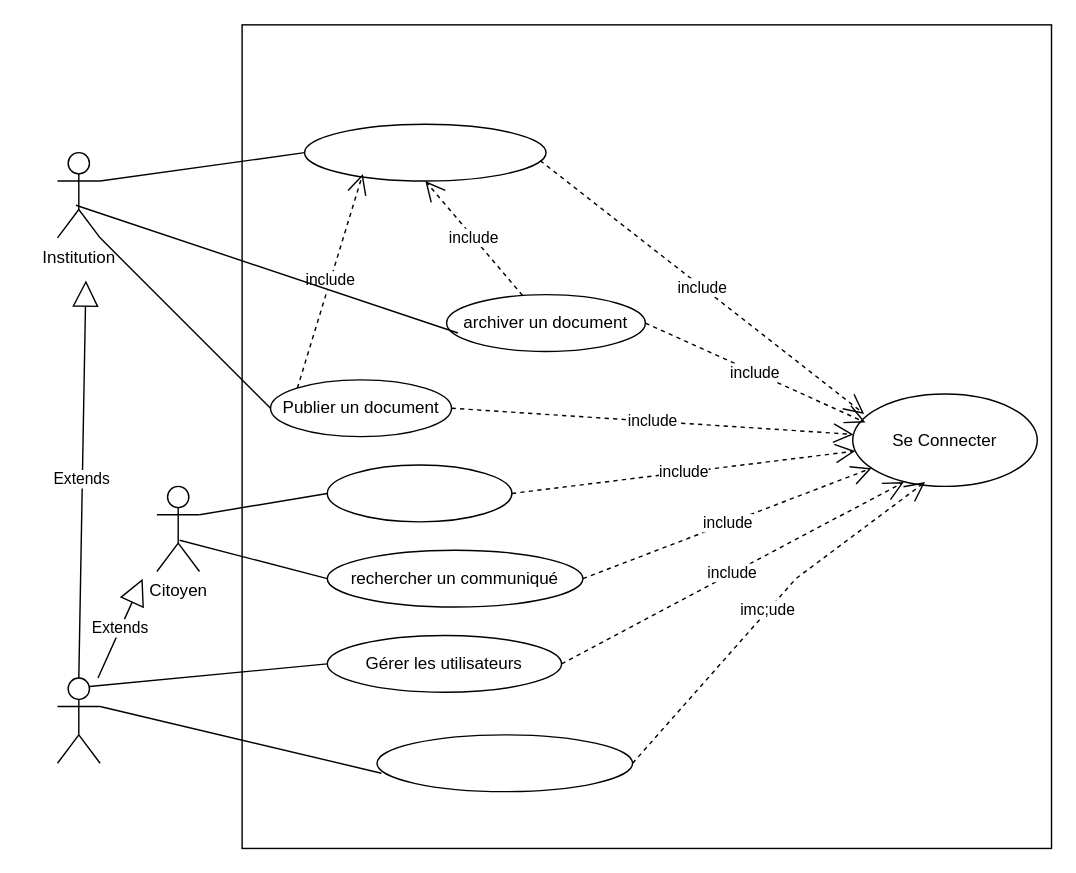
The diagram is 1076 pixels wide and 873 high, and some of its shapes have lost their labels. The shapes that lost their labels are listed below. From the top down, each one's centre as x and y in pixels, then its label:
At (424,152): "SIgner un document".
At (419,493): "authentier un fichier".
At (78,720): "Administrateur".
At (504,762): "superviser le systeme".
